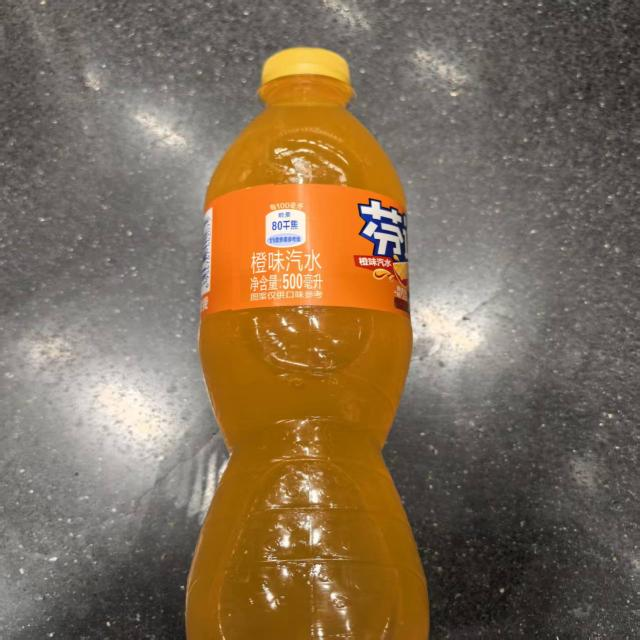orange: (343, 190, 418, 301)
